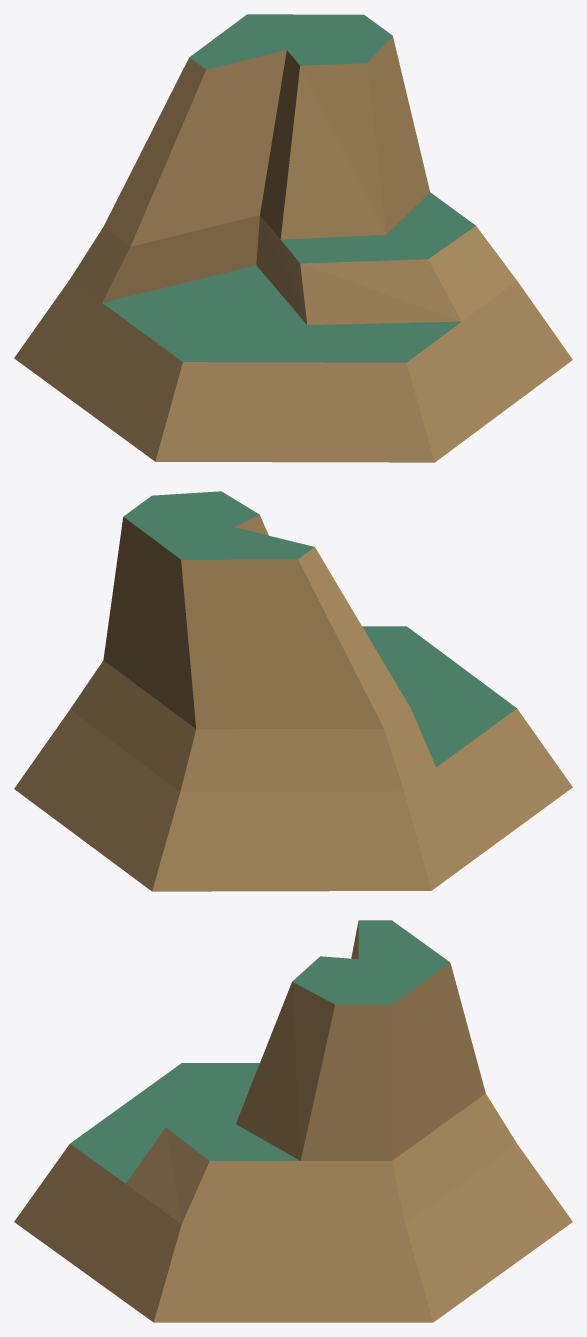
Rendered from Rock_Small_Mesa_Eroded_Moss_Grass_05.FBX.
3 renders of one model, top to bottom at view 1: azimuth 30°, elevation 25°; view 2: azimuth 150°, elevation 25°; view 3: azimuth 270°, elevation 25°, orthographic.
Visible parts, largest first — view 1: Rock_Small_Mesa_Eroded_Moss_Grass_05; view 2: Rock_Small_Mesa_Eroded_Moss_Grass_05; view 3: Rock_Small_Mesa_Eroded_Moss_Grass_05.
Boxes of the visible parts, x1,y1,x2,y2 form: Rock_Small_Mesa_Eroded_Moss_Grass_05: [14, 14, 572, 462]; Rock_Small_Mesa_Eroded_Moss_Grass_05: [14, 491, 572, 891]; Rock_Small_Mesa_Eroded_Moss_Grass_05: [14, 920, 572, 1322].
Bounding box in the file's own units: 3033 × 1933 × 3556.
